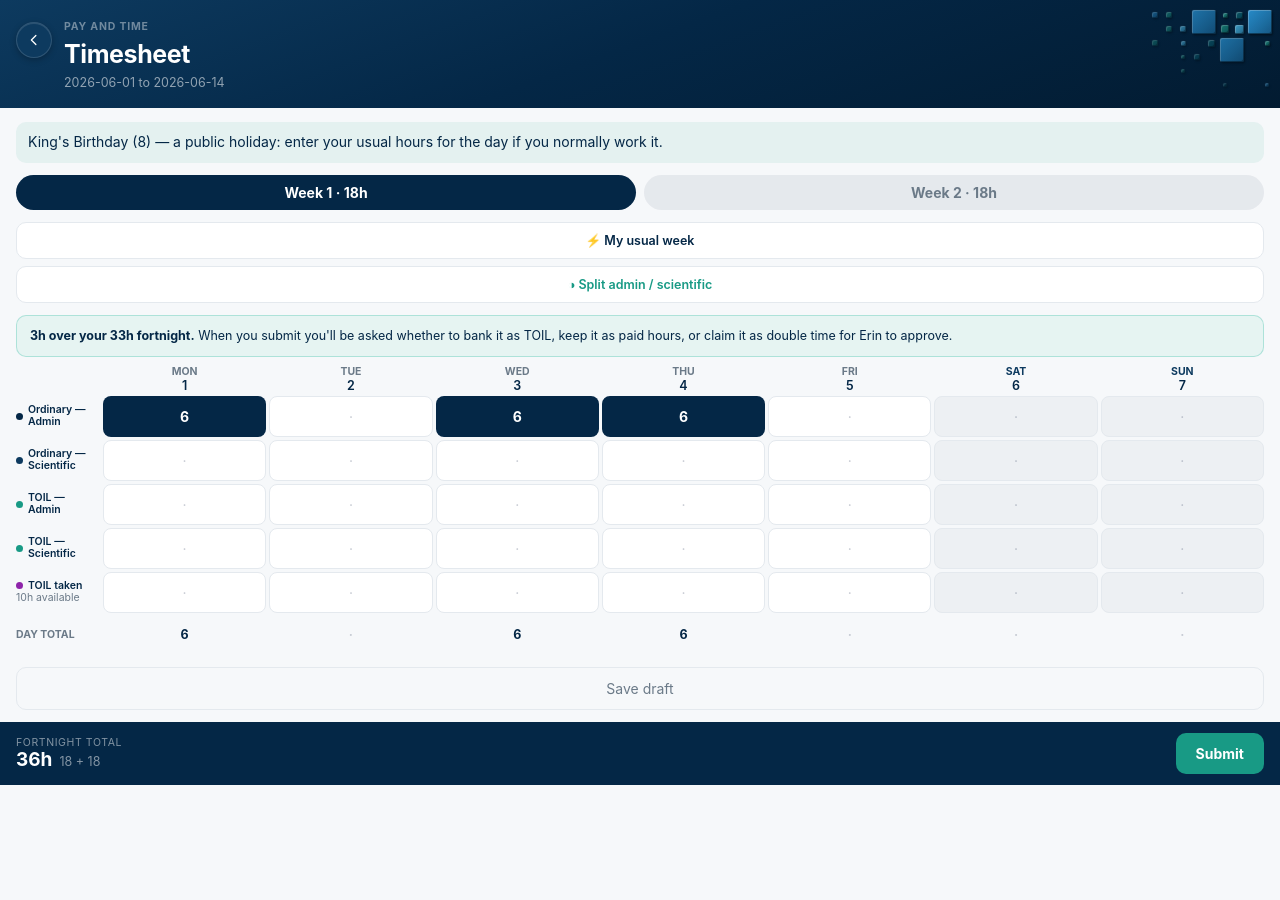
Test: Toni banks TOIL as admin or science › asks which, and sends it
Later steps or results of the test are not shown.
Click the button "Submit": coordinates (1220, 753) [1176,733,1264,774]
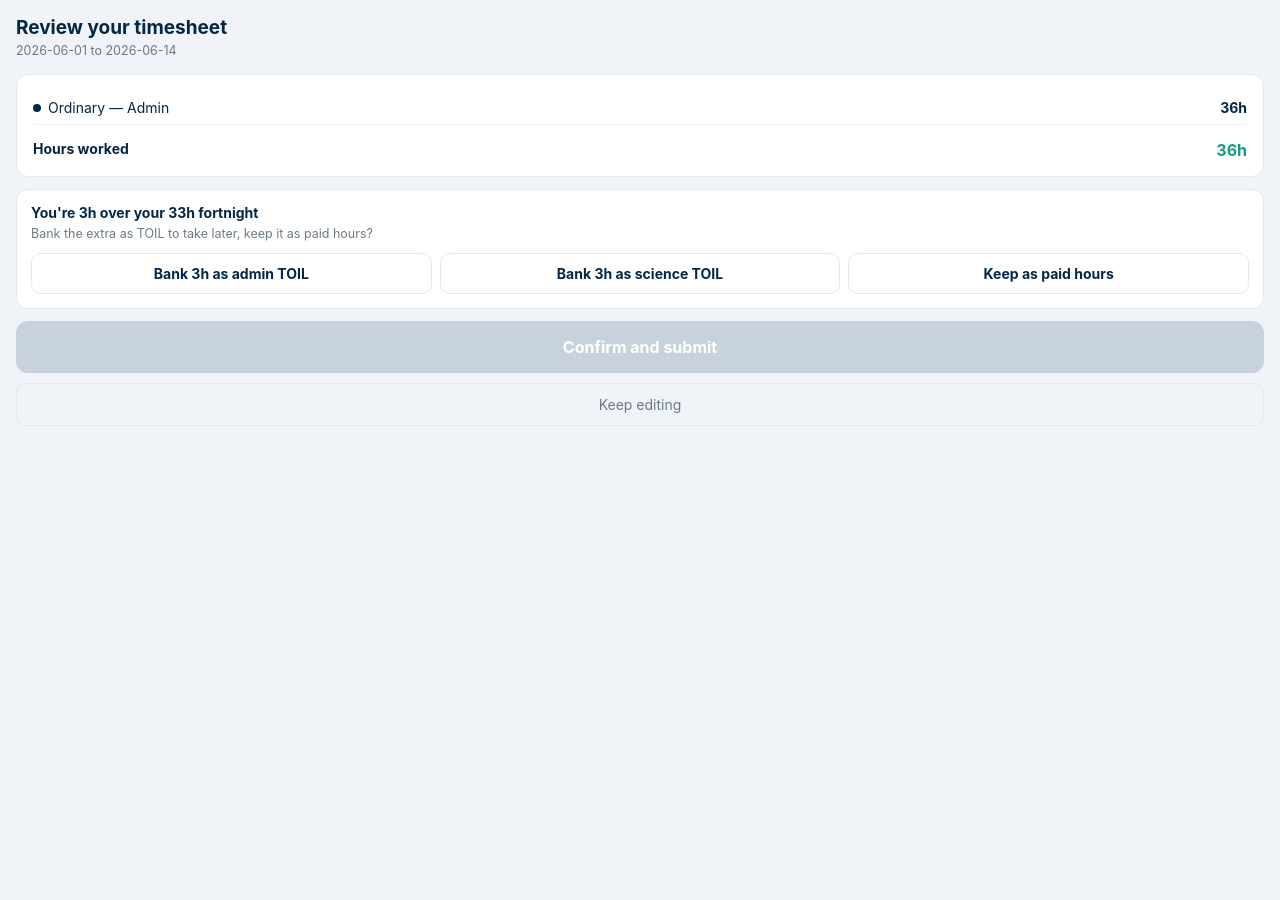
expect the button "Bank 3h as science TOIL" is shown: met, box [440,253,840,294]
